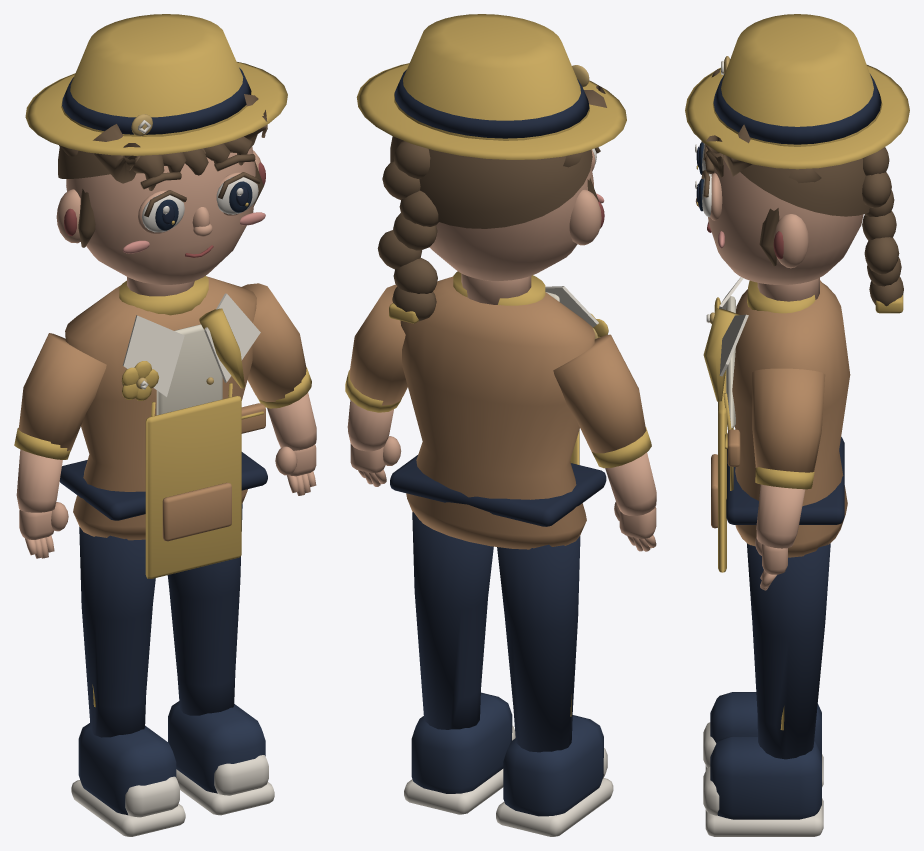
The model's file is npc_region_trainer_3.glb.
The picture shows the model from 3 angles, left to right: view 1: azimuth 30°, elevation 25°; view 2: azimuth 150°, elevation 25°; view 3: azimuth 270°, elevation 25°; orthographic projection. The views are drawn at different scales.
Parts seen in each view (by area): view 1: figure.021; view 2: figure.021; view 3: figure.021.
Part boxes in pixels (x1=…): figure.021: x1=14, y1=14, x2=316, y2=836; figure.021: x1=345, y1=14, x2=656, y2=836; figure.021: x1=685, y1=14, x2=909, y2=836.
Bounding box in the file's own units: 0.6462 × 1.58 × 0.4221.
